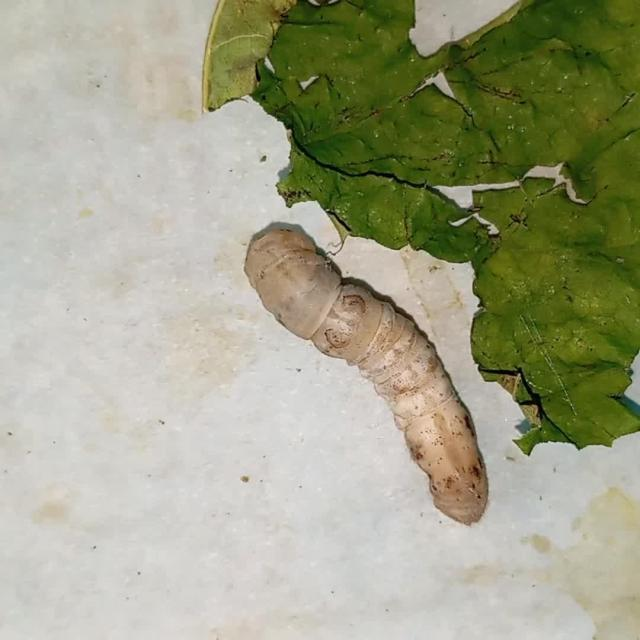Grasserie: (223, 202, 516, 552)
